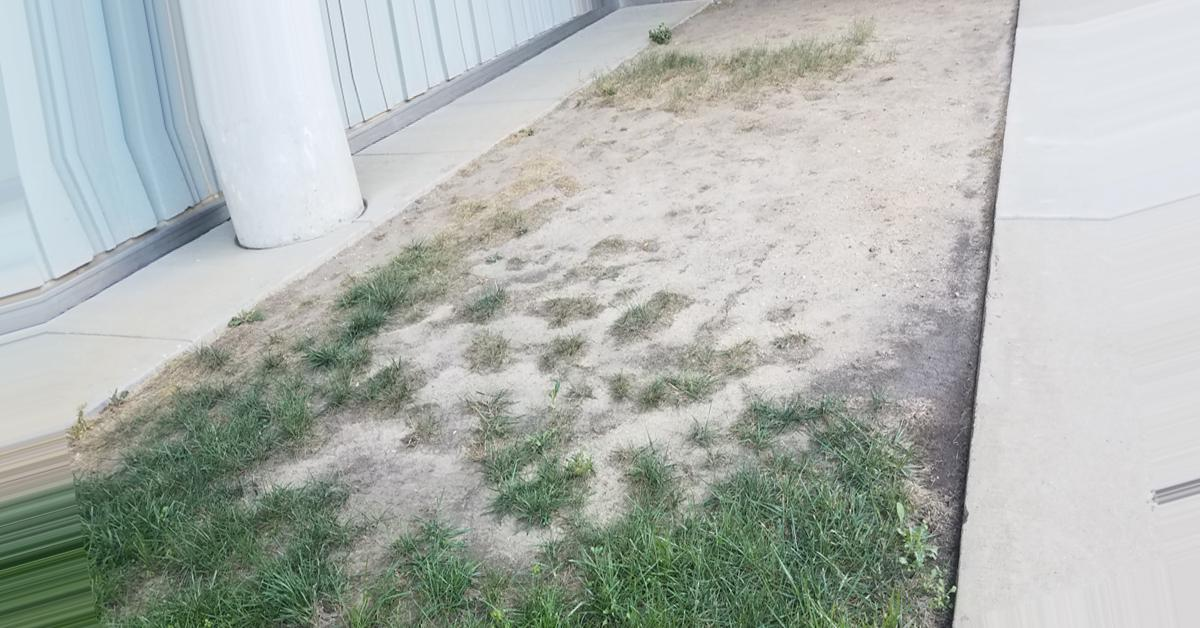patch: (576, 103, 944, 348), (399, 320, 690, 520), (731, 4, 938, 60)
